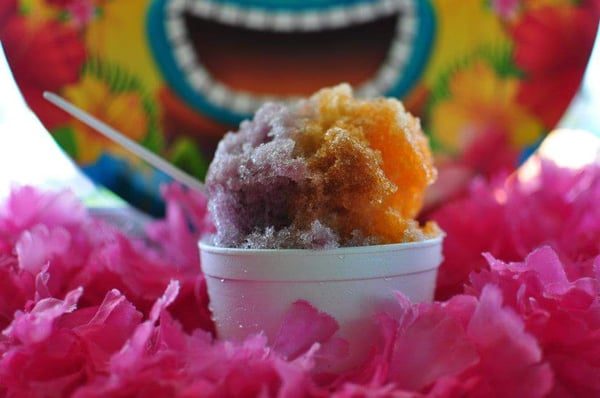sushi: (197, 223, 444, 348)
